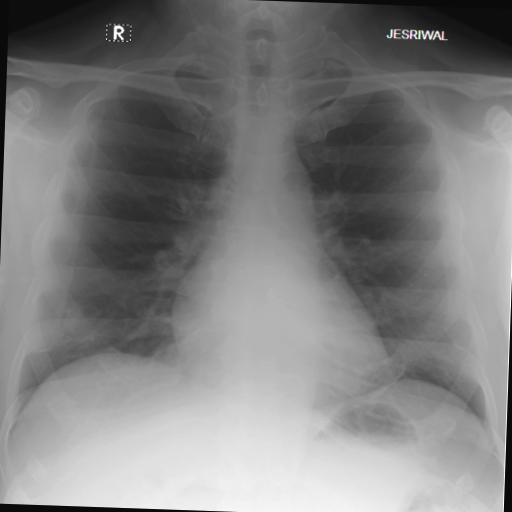normal: (5, 23, 510, 443)
